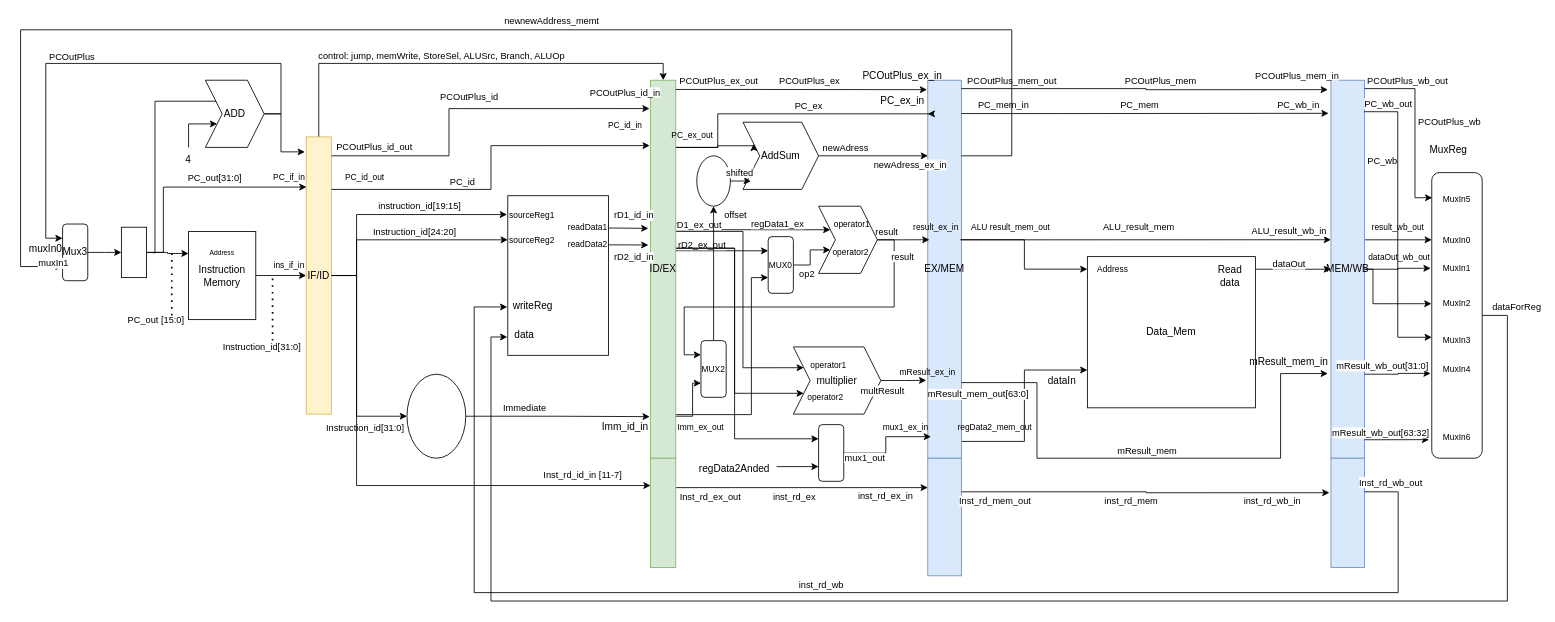
This 1555x622 diagram has some shape labels left out. Each missing label, with the box of its shape:
ALU: (818, 205, 877, 273)
Immediate_ Generator: (406, 373, 466, 458)
MUX1: (818, 424, 844, 481)
PC: (121, 226, 147, 278)
Registers: (507, 195, 609, 355)
Shiftleft1: (696, 155, 730, 206)
